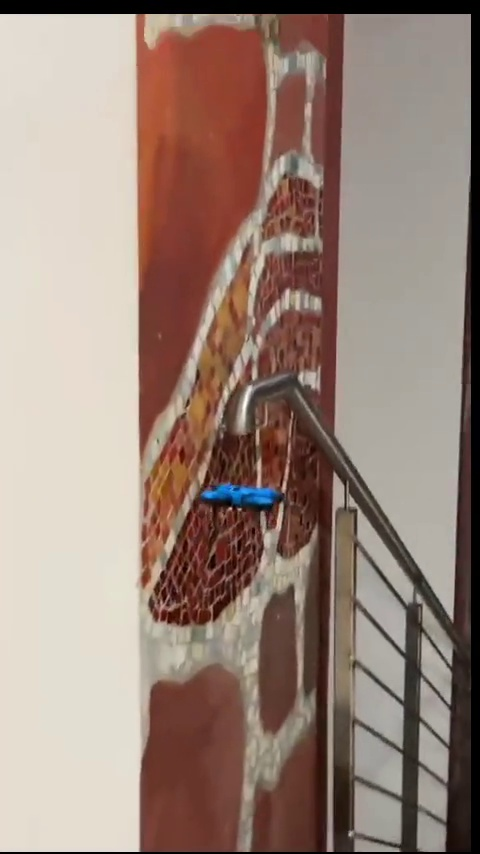drone: (200, 479, 289, 517)
